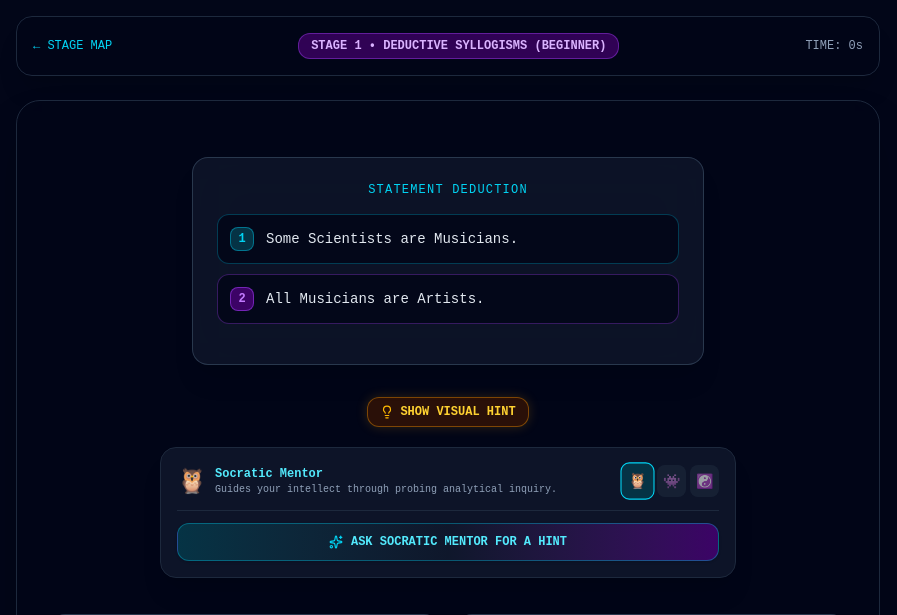
Test case: <PuzzleRunner /> Component & State Machine Integration › toggles visual hint drawer
The image size is (897, 615).
Click the button "SHOW VISUAL HINT" at (448, 412), box [367,397,529,427]
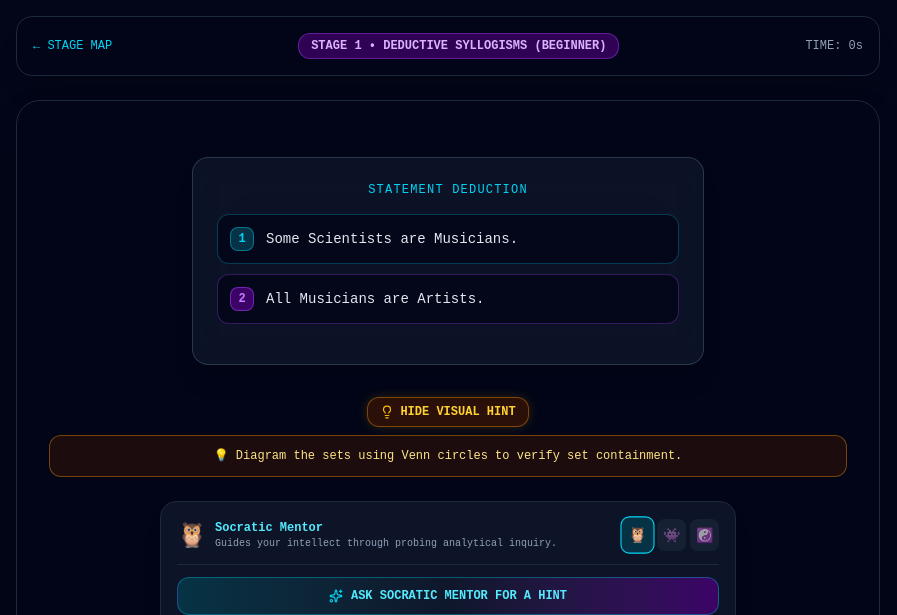
Check: the button "HIDE VISUAL HINT" is shown, box [367,397,529,427]
